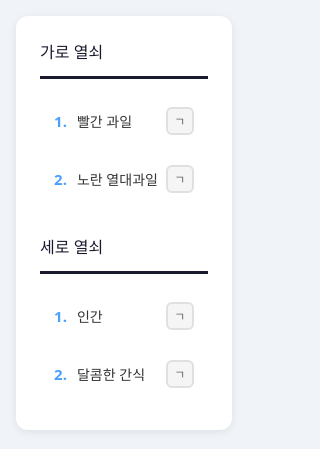
Test: HintPanel › 상호작용 › 세로 초성 버튼 재클릭 시 초성이 숨겨짐
# 세 번째 버튼 (첫 번째 세로 단어) 클릭 - 초성 표시
What coordinates should you click on to do the following:
click the button titled "초성 힌트" next to "인간"
I would click on:
 (180, 316)
Its box is [166,302,194,330].
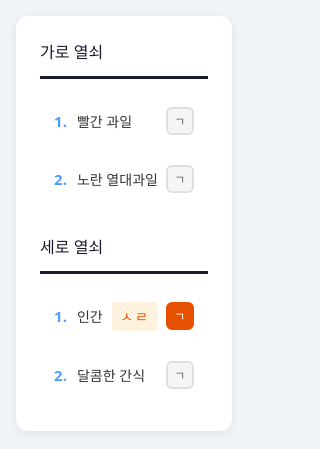
Check: the text "ㅅㄹ" is shown, box [112,302,158,330]
# 두 번째 클릭 - 초성 숨김
What coordinates should you click on to do the following:
click the button titled "초성 힌트" next to "ㅅㄹ"
I would click on:
 (180, 316)
Its box is [166,302,194,330].
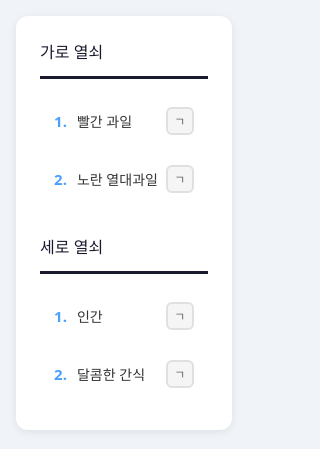
Check: the text "ㅅㄹ" is gone
